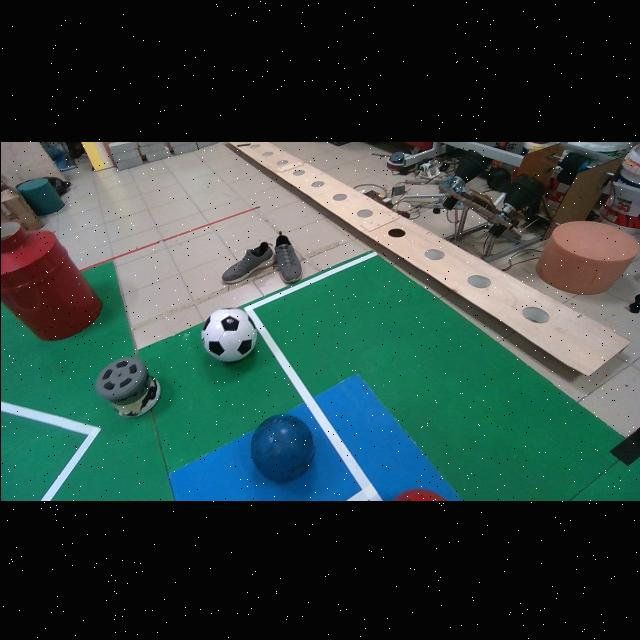B: (250, 413, 314, 481)
